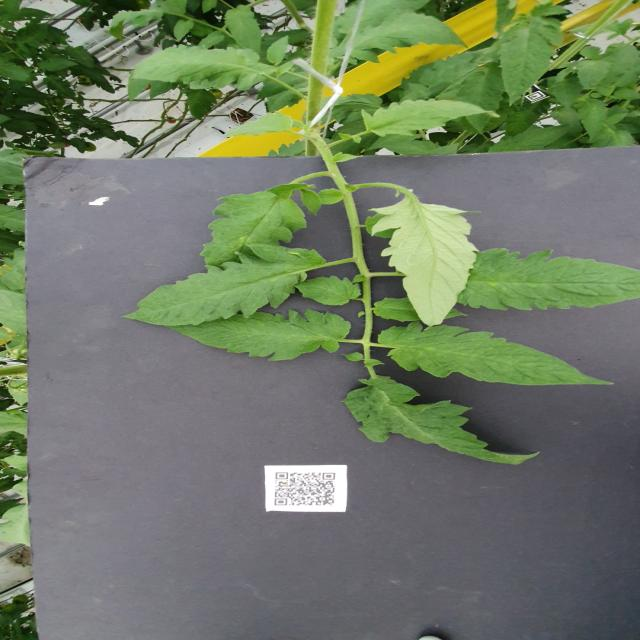Healthy Leaf: (343, 377, 543, 466), (123, 244, 328, 326), (379, 322, 615, 386), (367, 198, 483, 327), (457, 248, 640, 312), (199, 184, 323, 266), (169, 309, 353, 362), (135, 45, 276, 92), (349, 13, 471, 65), (497, 24, 567, 107), (362, 98, 502, 139), (455, 72, 505, 140), (489, 124, 576, 153), (297, 276, 362, 307), (225, 5, 263, 54), (223, 112, 294, 138), (574, 99, 609, 142), (185, 89, 219, 122), (268, 36, 292, 66), (175, 20, 196, 44)
